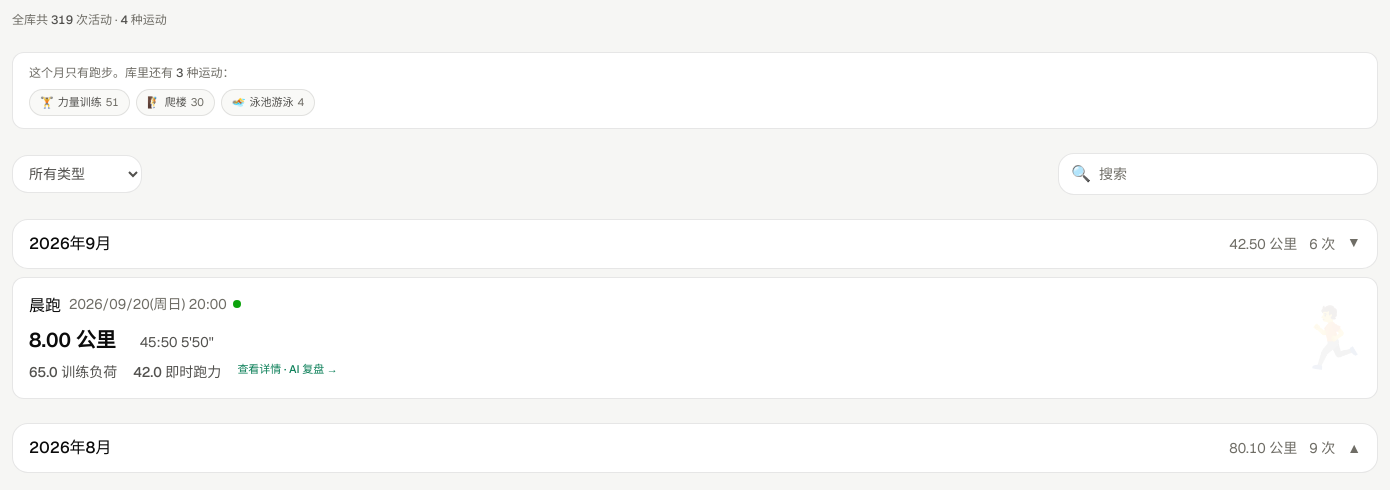
Test: ListClient 活动列表 (交互/筛选/无限滚动) › 本月只有跑步 → 其他运动快捷入口 › 搜索生效时不渲染「这个月只有跑步」提示（提示与动作必须一致）
The width and height of the screenshot is (1390, 490).
expect the text "这个月只有跑步。库里还有 3 种运动：" is shown: met, box top-left (29, 65), bottom-right (234, 81)
Type "长距离" into the search field named "搜索活动" at (1232, 174), box top-left (1099, 164), bottom-right (1365, 184)
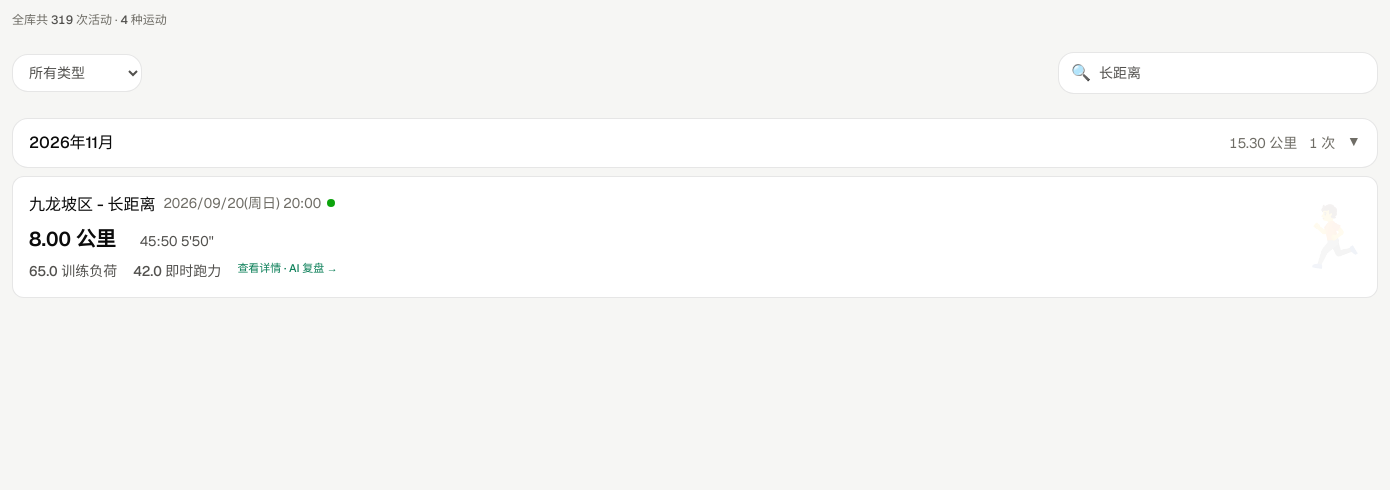
expect the text "这个月只有跑步" is gone: met
